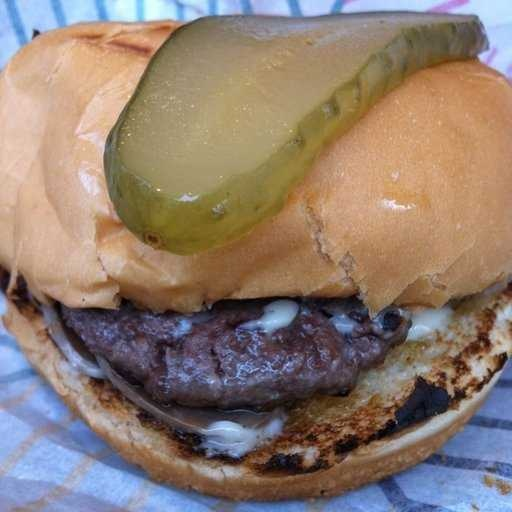hamburger: (1, 10, 503, 491)
